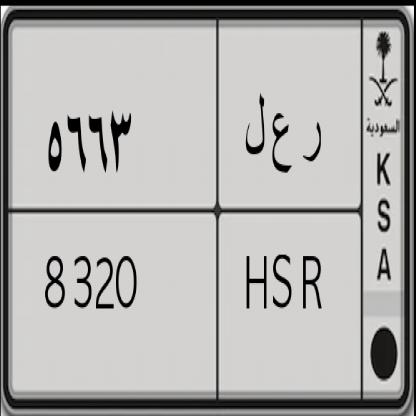english: (6, 187, 368, 394)
